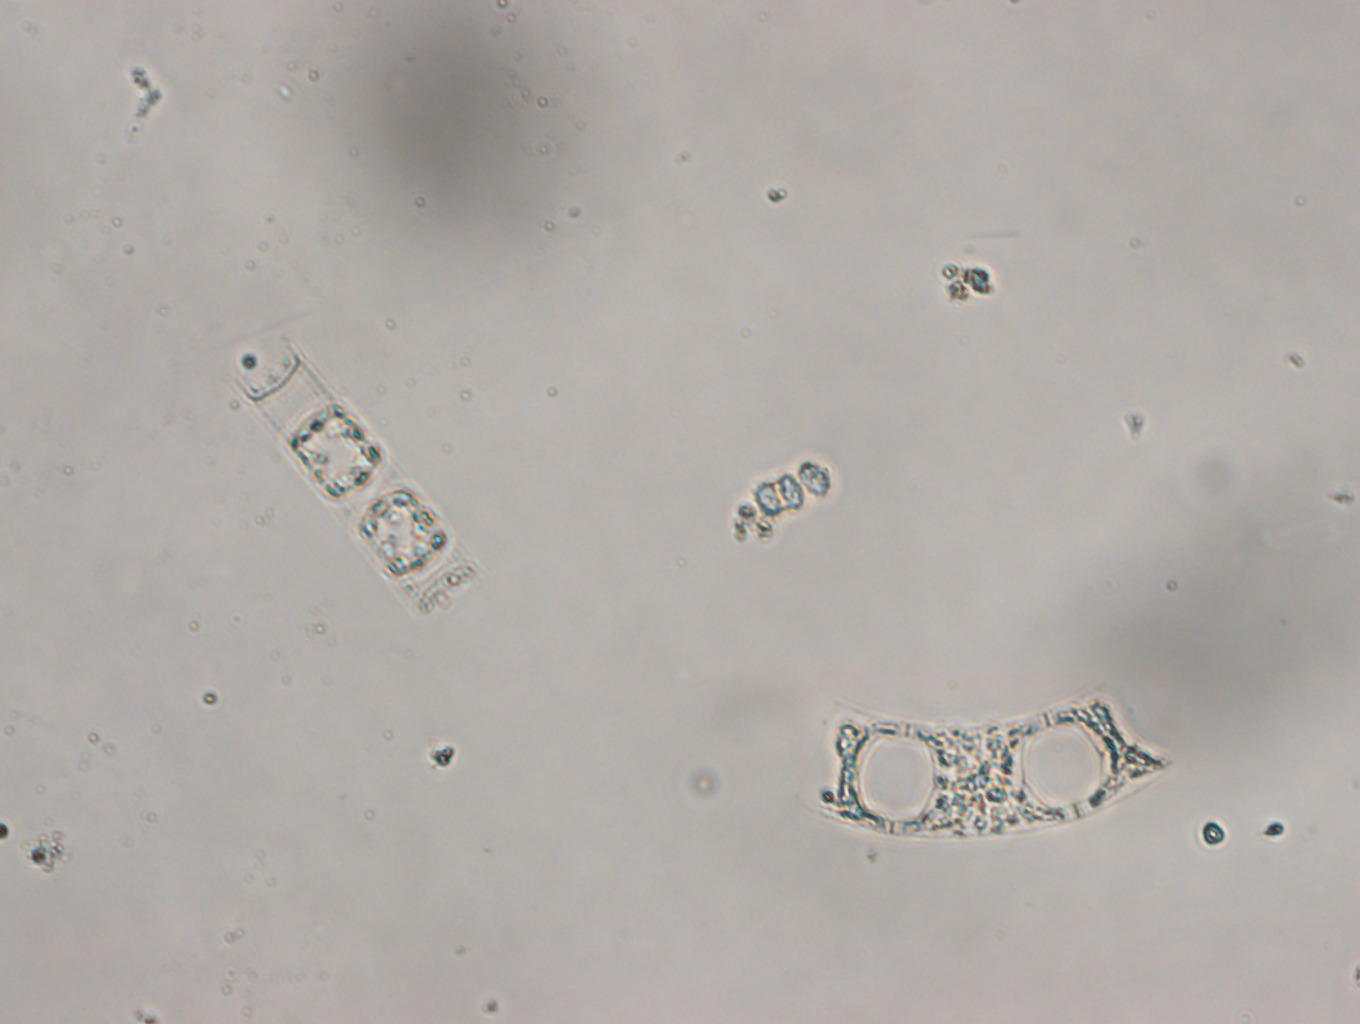eucampia: (803, 685, 1169, 845)
skeletonema: (216, 336, 485, 628)
